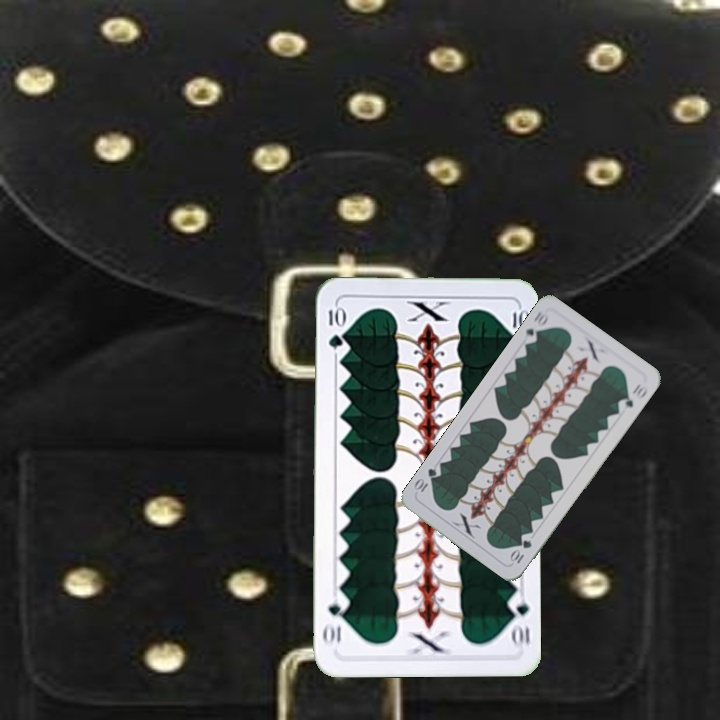G10: (505, 591, 533, 650), (520, 307, 551, 346), (324, 302, 345, 351), (506, 535, 535, 567)
